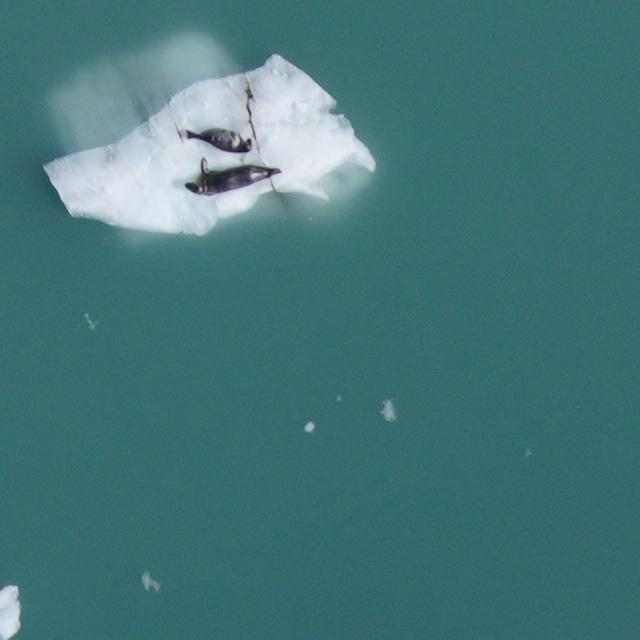seal: (183, 155, 284, 206), (186, 126, 253, 154)
